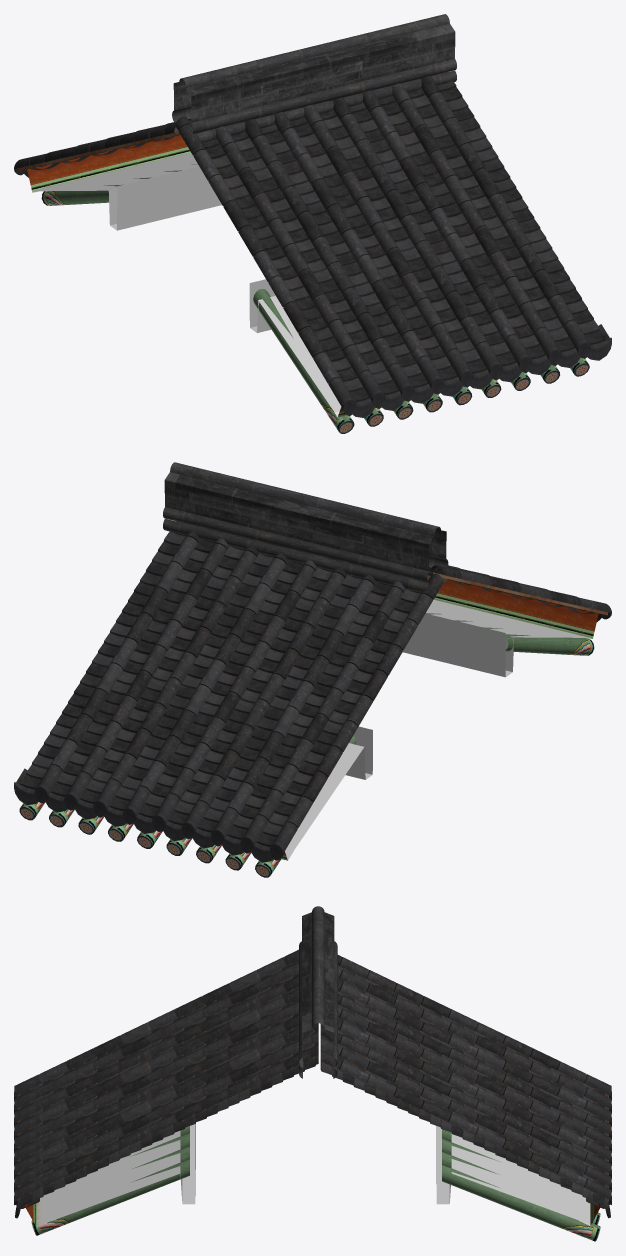
File: SM_Giwa01B_a1.fbx
The picture shows the model from 3 angles, top to bottom: view 1: azimuth 30°, elevation 25°; view 2: azimuth 150°, elevation 25°; view 3: azimuth 270°, elevation 25°; orthographic projection. The views are drawn at different scales.
Visible parts, largest first — view 1: SM_Giwa01B_a1; view 2: SM_Giwa01B_a1; view 3: SM_Giwa01B_a1.
Boxes of the visible parts, box(x1,y1,x2,y2) form: SM_Giwa01B_a1: box(14, 14, 611, 433); SM_Giwa01B_a1: box(14, 462, 611, 877); SM_Giwa01B_a1: box(14, 906, 611, 1241).
Bounding box in the file's own units: 284 × 596 × 243.
